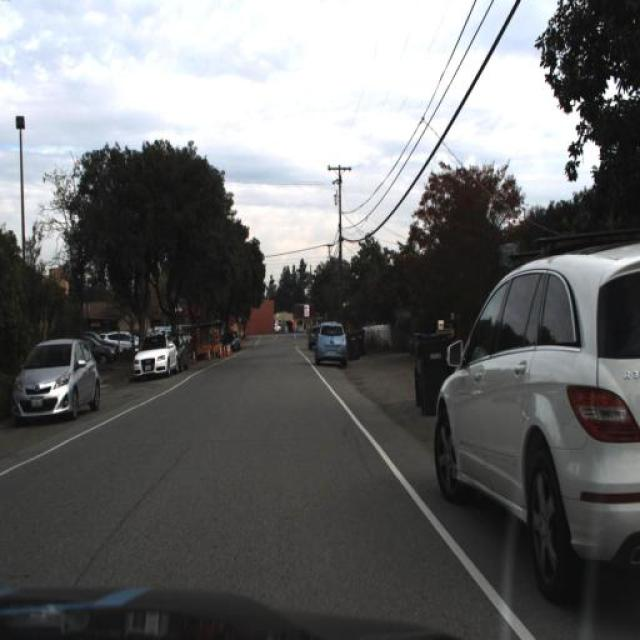car: (432, 243, 640, 616), (5, 335, 104, 429), (11, 338, 100, 422), (128, 333, 182, 382), (308, 317, 352, 368), (132, 332, 178, 377), (75, 334, 119, 370), (102, 330, 144, 365), (172, 328, 189, 372)
